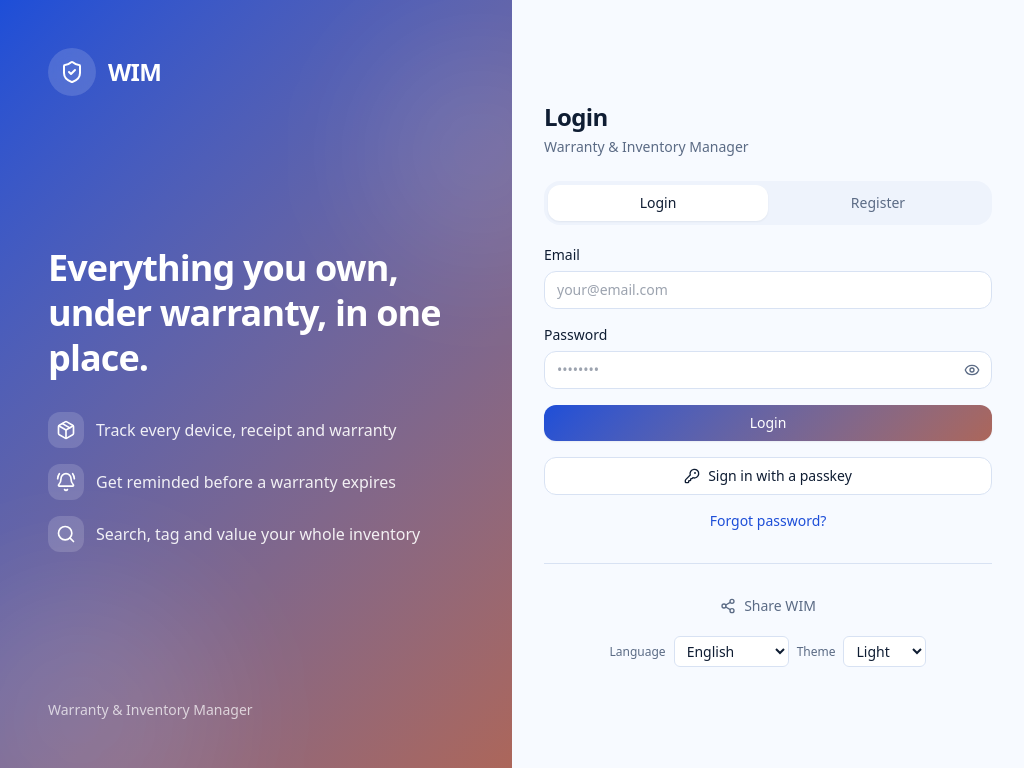
<LoginForm /> › surfaces server errors via the alert region
Type "alice@example.com" into the field labelled "Email" at (768, 290), box [544,271,992,309]
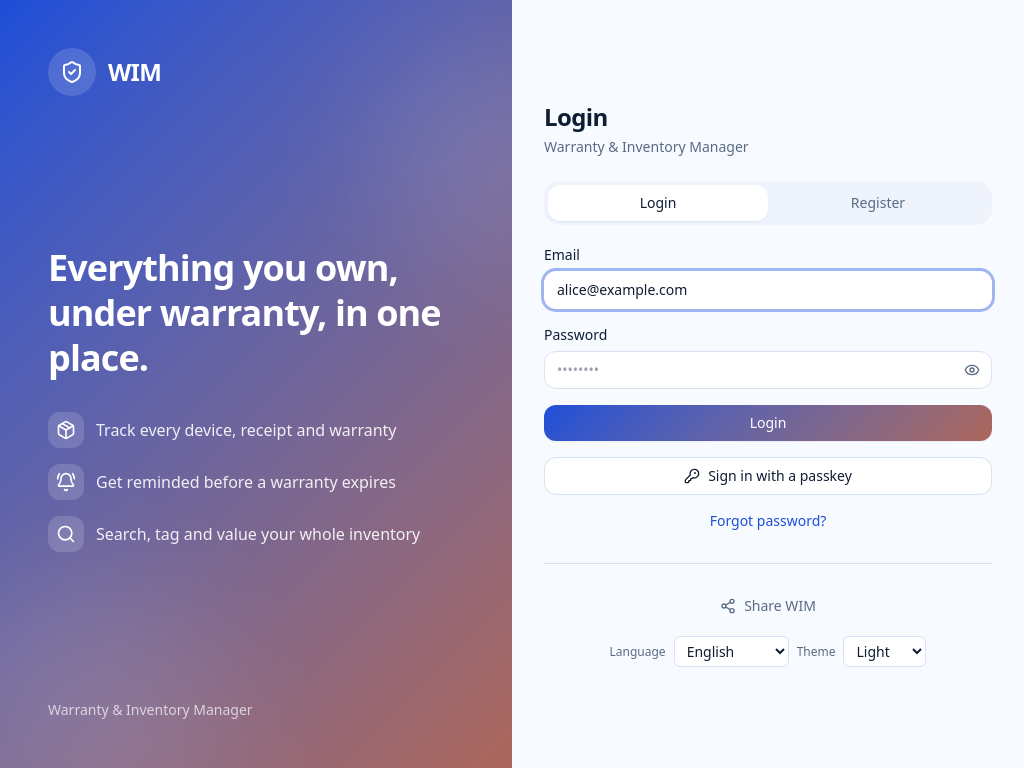
Type "hunter222" into the password field labelled "Password" at (768, 370), box [544,351,992,389]
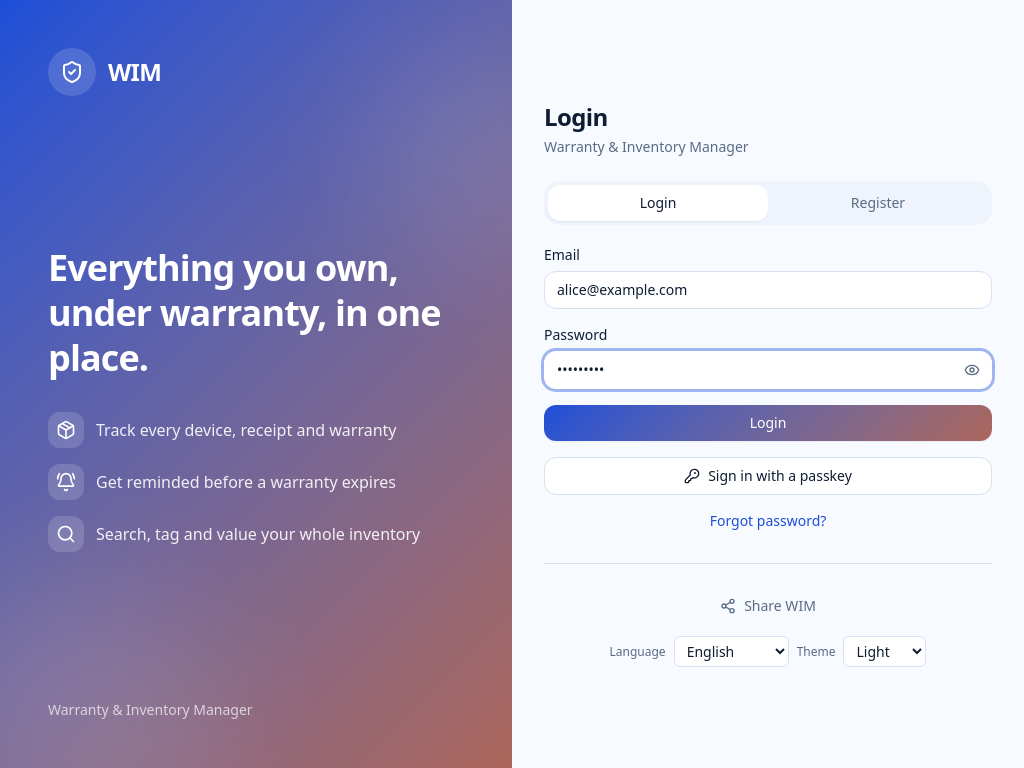
Click the submit button at (768, 423), box [544,405,992,441]
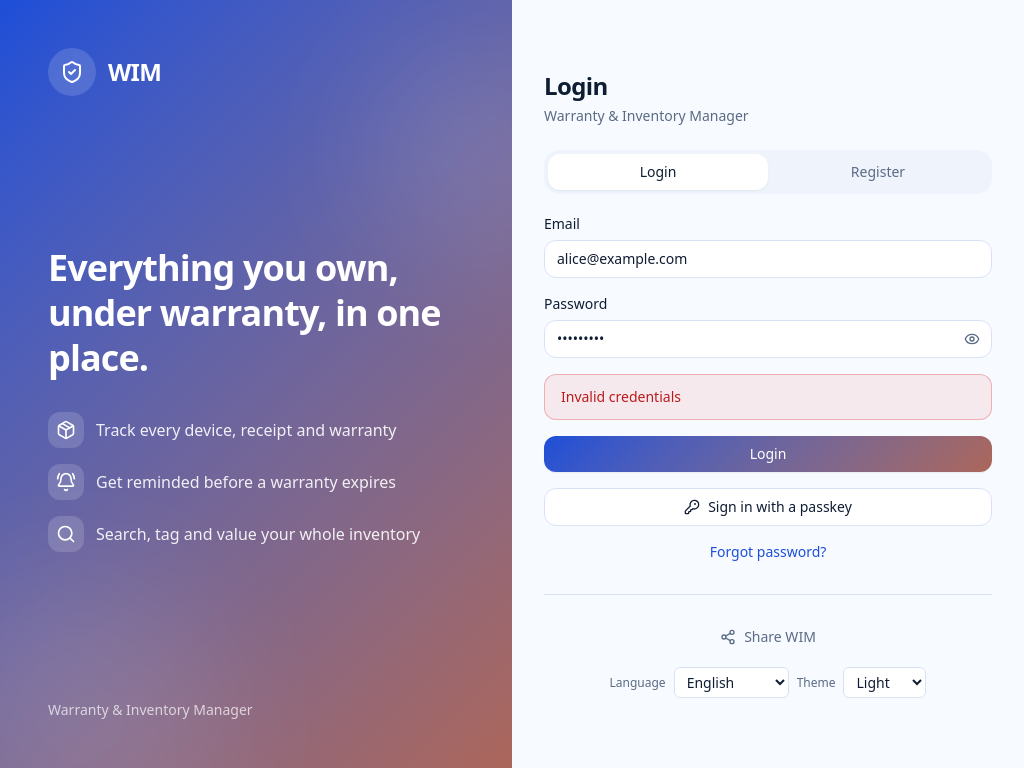
Result: the message reads "Invalid credentials" at [561,387,681,406]
